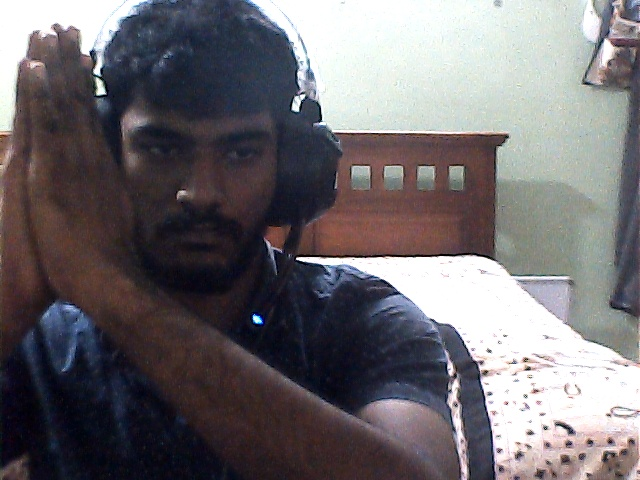Sign: (3, 21, 142, 315)
